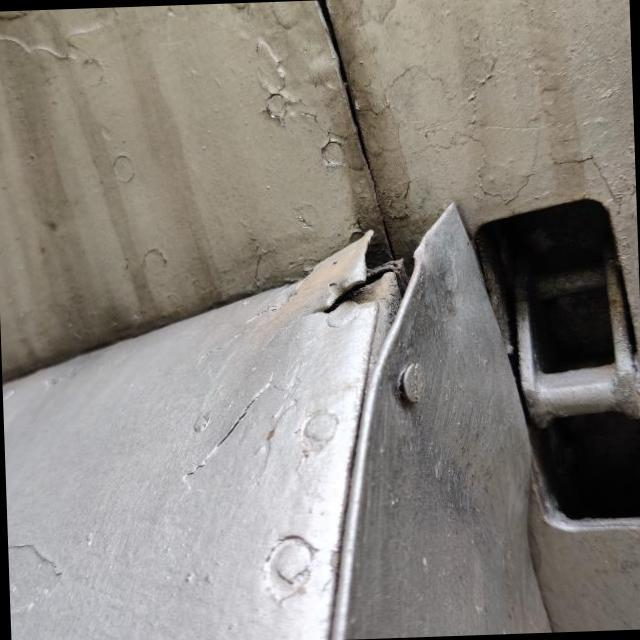Rupture: (293, 223, 402, 342)
